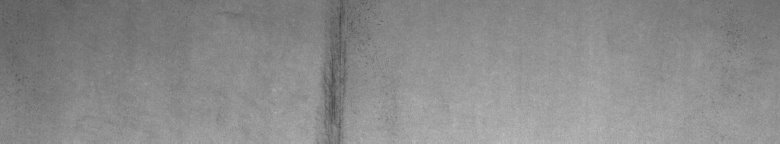hd: (320, 4, 356, 136)
